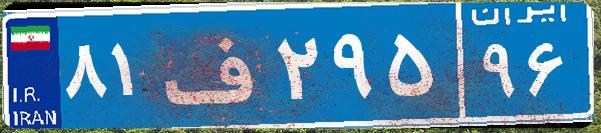1: (110, 28, 158, 105)
2: (273, 28, 330, 110)
5: (385, 28, 445, 110)
6: (525, 38, 570, 115)
8: (57, 26, 110, 107)
9: (330, 28, 385, 110), (475, 38, 525, 113)
ف: (158, 15, 273, 115)
